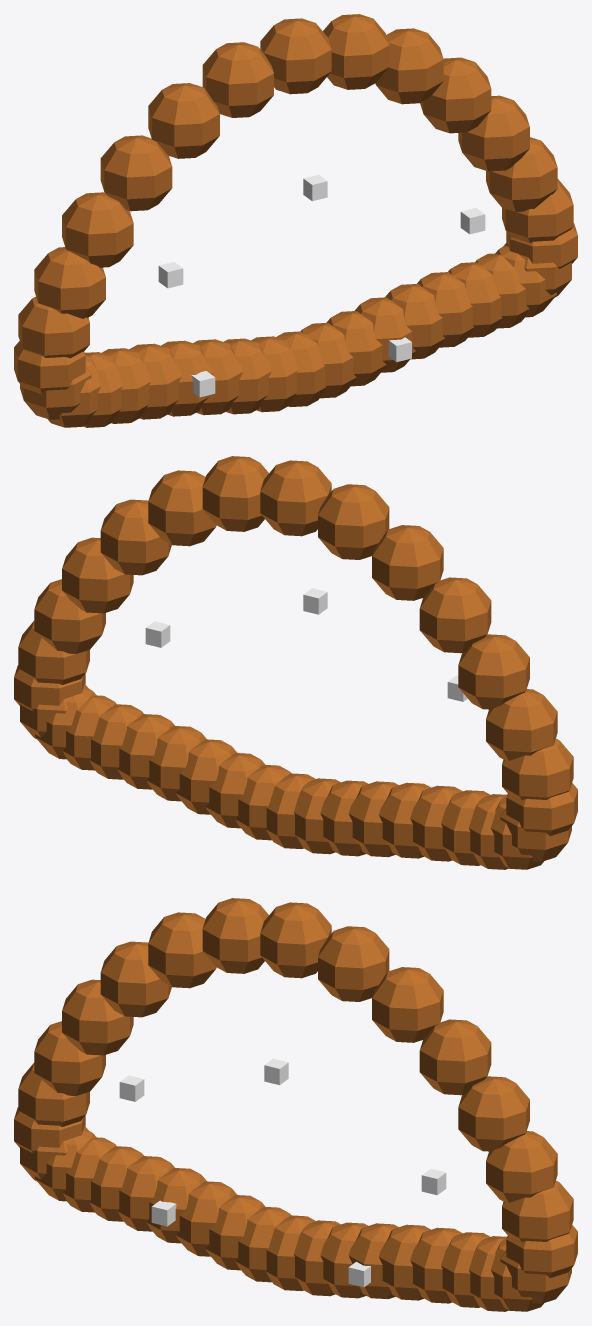
File: bretzel.glb
3 views of the same model, one above another, from view 1: azimuth 30°, elevation 25°; view 2: azimuth 150°, elevation 25°; view 3: azimuth 330°, elevation 25° (orthographic).
Parts seen in each view (by area): view 1: p_sph.297, p_sph.296, p_sph.298, p_sph.295, p_sph.265, p_sph.266, p_sph.267, p_sph.294, p_sph.268, p_sph.269, p_sph.270, p_sph.293 (+25 smaller); view 2: p_sph.297, p_sph.296, p_sph.298, p_sph.295, p_sph.265, p_sph.266, p_sph.267, p_sph.294, p_sph.268, p_sph.269, p_sph.270, p_sph.293 (+24 smaller); view 3: p_sph.267, p_sph.268, p_sph.266, p_sph.269, p_sph.265, p_sph.298, p_sph.297, p_sph.270, p_sph.296, p_sph.295, p_sph.294, p_sph.271 (+26 smaller).
Boxes of the visible parts, left/top/right/bottom form: p_sph.297: left=148, top=83, right=219, bottom=158; p_sph.296: left=100, top=135, right=172, bottom=211; p_sph.298: left=202, top=42, right=273, bottom=117; p_sph.295: left=62, top=192, right=133, bottom=267; p_sph.265: left=260, top=18, right=331, bottom=94; p_sph.266: left=323, top=14, right=389, bottom=89; p_sph.267: left=375, top=28, right=443, bottom=104; p_sph.294: left=34, top=247, right=105, bottom=318; p_sph.268: left=420, top=57, right=491, bottom=133; p_sph.269: left=458, top=95, right=529, bottom=171; p_sph.270: left=486, top=137, right=557, bottom=211; p_sph.293: left=18, top=296, right=89, bottom=358; p_sph.297: left=372, top=525, right=443, bottom=600; p_sph.296: left=419, top=577, right=491, bottom=653; p_sph.298: left=318, top=484, right=389, bottom=559; p_sph.295: left=458, top=634, right=529, bottom=709; p_sph.265: left=260, top=460, right=331, bottom=536; p_sph.266: left=202, top=456, right=268, bottom=531; p_sph.267: left=148, top=470, right=216, bottom=546; p_sph.294: left=486, top=689, right=557, bottom=760; p_sph.268: left=100, top=499, right=171, bottom=575; p_sph.269: left=62, top=537, right=133, bottom=613; p_sph.270: left=34, top=579, right=105, bottom=653; p_sph.293: left=502, top=738, right=573, bottom=800; p_sph.267: left=372, top=967, right=443, bottom=1042; p_sph.268: left=419, top=1019, right=491, bottom=1095; p_sph.266: left=318, top=926, right=389, bottom=1001; p_sph.269: left=458, top=1076, right=529, bottom=1151; p_sph.265: left=260, top=902, right=331, bottom=978; p_sph.298: left=202, top=898, right=268, bottom=973; p_sph.297: left=148, top=912, right=216, bottom=988; p_sph.270: left=486, top=1131, right=557, bottom=1202; p_sph.296: left=100, top=941, right=171, bottom=1017; p_sph.295: left=62, top=979, right=133, bottom=1055; p_sph.294: left=34, top=1021, right=105, bottom=1095; p_sph.271: left=502, top=1180, right=573, bottom=1242.
Size of the model in its own units: 1.07 by 0.706 by 0.1418.
